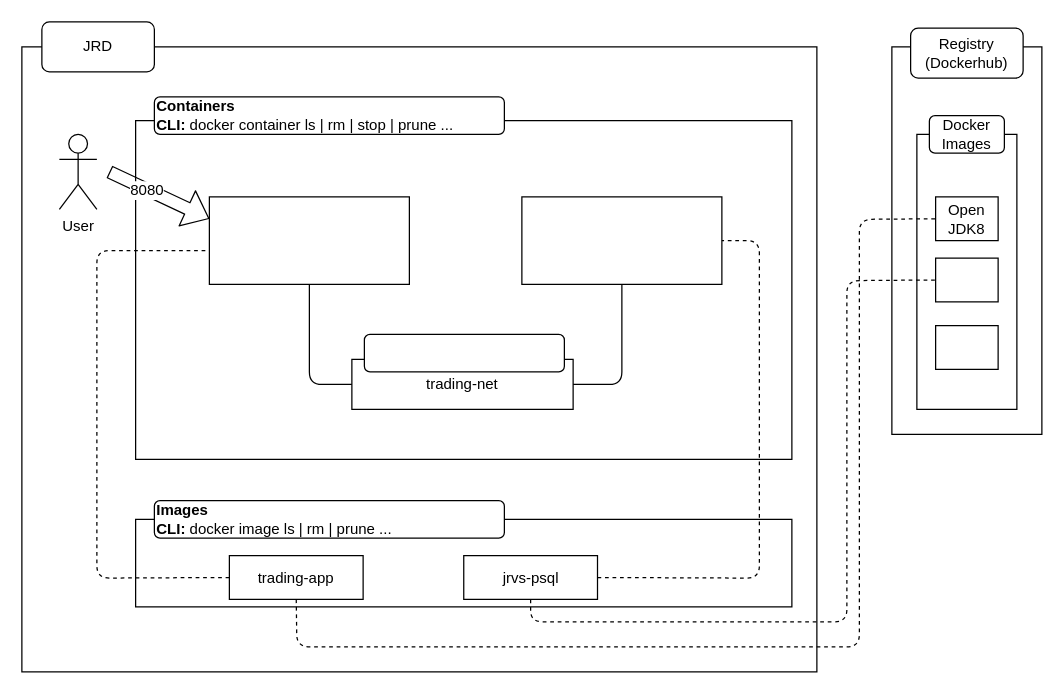
Image size: 1064x694. Some labels were removed from this diagram. The box of each missing label's shape, as (x1, y1, x2, y2) in pixels:
jrvs-psql port:5432: (521, 196, 722, 284)
network CLI: docker network ls | rm: (363, 333, 564, 372)
other images: (934, 324, 998, 369)
Postgres: (934, 257, 998, 302)
trading-app port: 8080: (208, 196, 409, 284)
